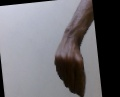hand: (52, 30, 87, 97)
